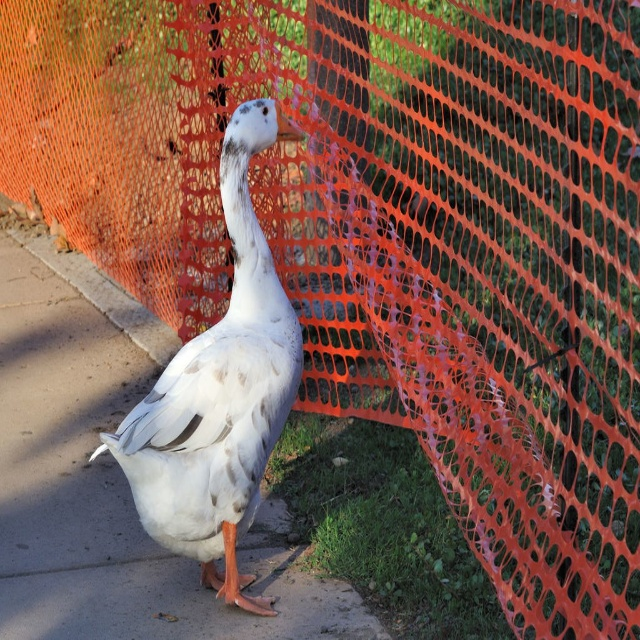Goose: (90, 99, 305, 618)
